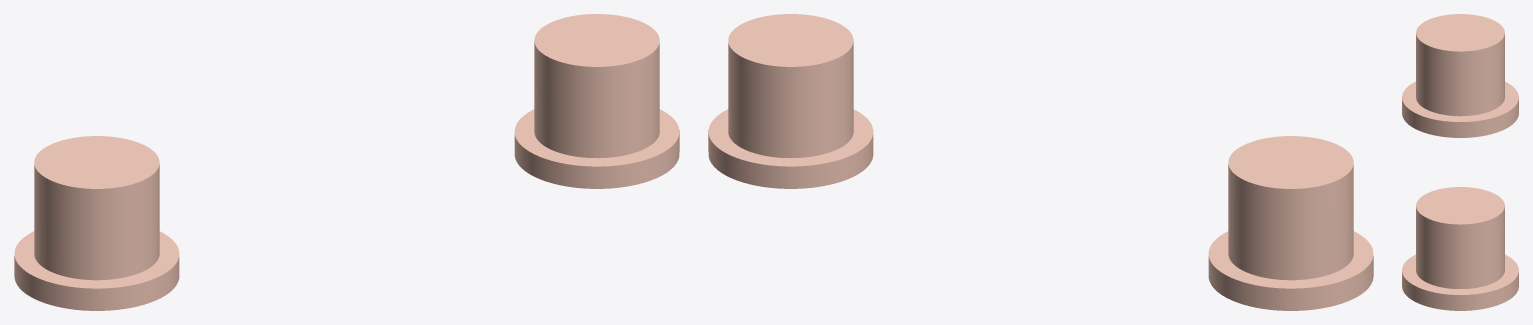
The model's file is Isotope Heater.gltf.
3 views of the same model, side by side, from view 1: azimuth 30°, elevation 25°; view 2: azimuth 150°, elevation 25°; view 3: azimuth 270°, elevation 25° (orthographic). The views are drawn at different scales.
Visible parts, largest first — view 1: Body1.005, Body1.006; view 2: Body1.005, Body1.006; view 3: Body1.005, Body1.006.
Boxes of the visible parts, x1,y1,x2,y2 form: Body1.005: (14,136,179,310); Body1.006: (514,14,679,188); Body1.005: (1208,136,1373,310); Body1.006: (708,14,873,188); Body1.005: (1402,14,1518,137); Body1.006: (1402,187,1518,310).
Bounding box in the file's own units: 0.45 × 0.076 × 0.1.
